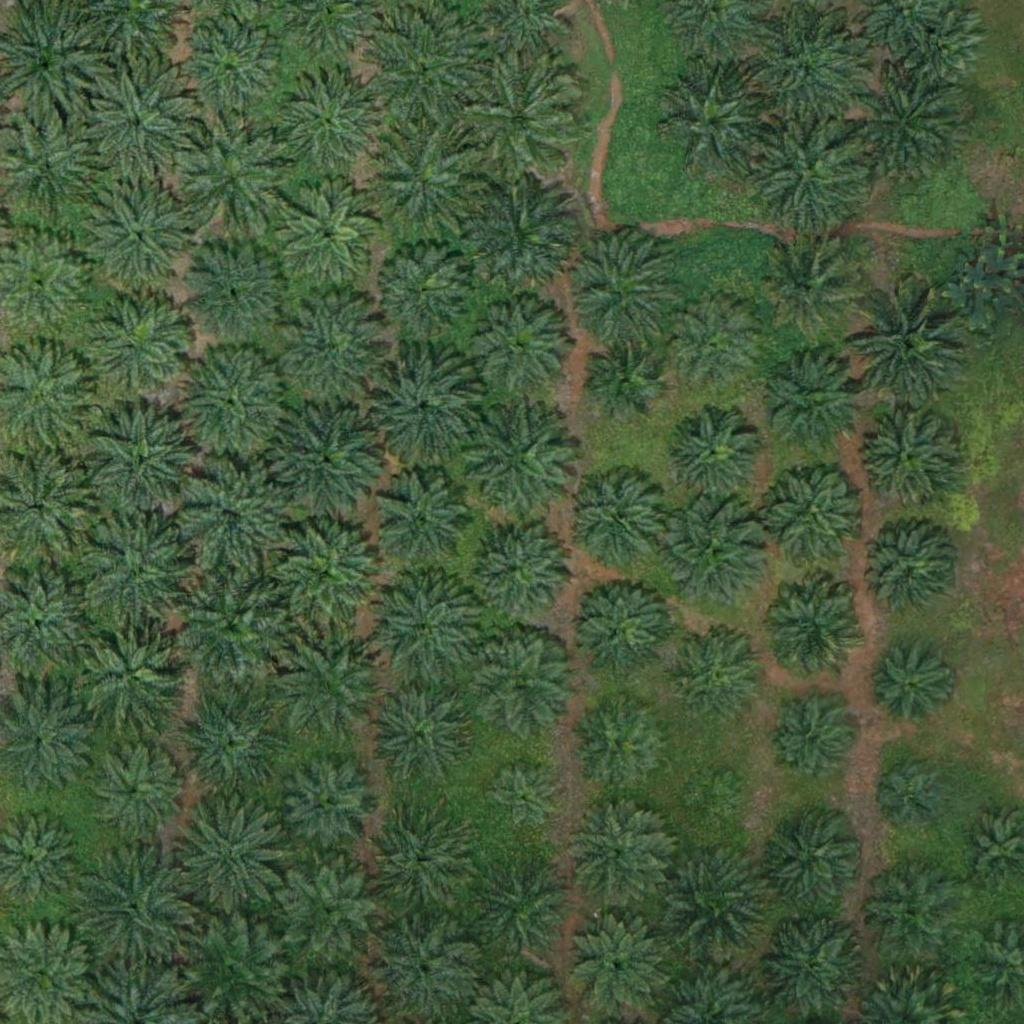Kelapa_Sawit: (460, 61, 573, 175), (564, 235, 677, 349), (756, 456, 869, 570), (654, 495, 767, 609), (173, 909, 286, 1023), (79, 845, 192, 959), (174, 14, 287, 127), (178, 121, 291, 234), (175, 235, 288, 348), (278, 289, 391, 402), (270, 399, 383, 512), (749, 15, 862, 128), (851, 77, 964, 190), (755, 806, 868, 919), (371, 574, 484, 687), (272, 520, 385, 633), (83, 519, 196, 632), (74, 618, 187, 731), (273, 61, 385, 175), (368, 13, 480, 127), (365, 121, 477, 235), (465, 174, 577, 288), (462, 289, 574, 403), (854, 292, 966, 405), (80, 71, 192, 184), (81, 182, 193, 295), (86, 406, 198, 519), (174, 349, 286, 462), (175, 461, 287, 574), (366, 342, 478, 455), (464, 407, 576, 520), (658, 66, 770, 179), (754, 119, 866, 232), (759, 350, 871, 463), (657, 843, 769, 956), (274, 631, 386, 744), (177, 571, 289, 684), (173, 683, 285, 796), (175, 795, 287, 908), (764, 240, 864, 341), (87, 293, 187, 394), (277, 180, 377, 281), (372, 471, 472, 572), (858, 406, 958, 507), (860, 862, 960, 963), (671, 625, 771, 726), (569, 574, 669, 675), (573, 693, 673, 794), (565, 801, 665, 902), (565, 912, 665, 1013), (469, 519, 569, 620), (470, 631, 570, 732), (472, 857, 572, 958), (370, 680, 470, 781), (367, 813, 467, 914), (280, 757, 380, 858), (280, 860, 380, 961), (373, 237, 473, 337), (562, 470, 662, 570), (664, 293, 764, 393), (661, 405, 761, 505), (860, 520, 960, 620), (761, 580, 861, 680), (84, 739, 184, 839), (865, 644, 953, 732), (895, 6, 982, 94), (767, 696, 854, 784), (585, 339, 660, 415), (483, 763, 558, 838), (878, 764, 941, 827), (680, 767, 742, 830)
